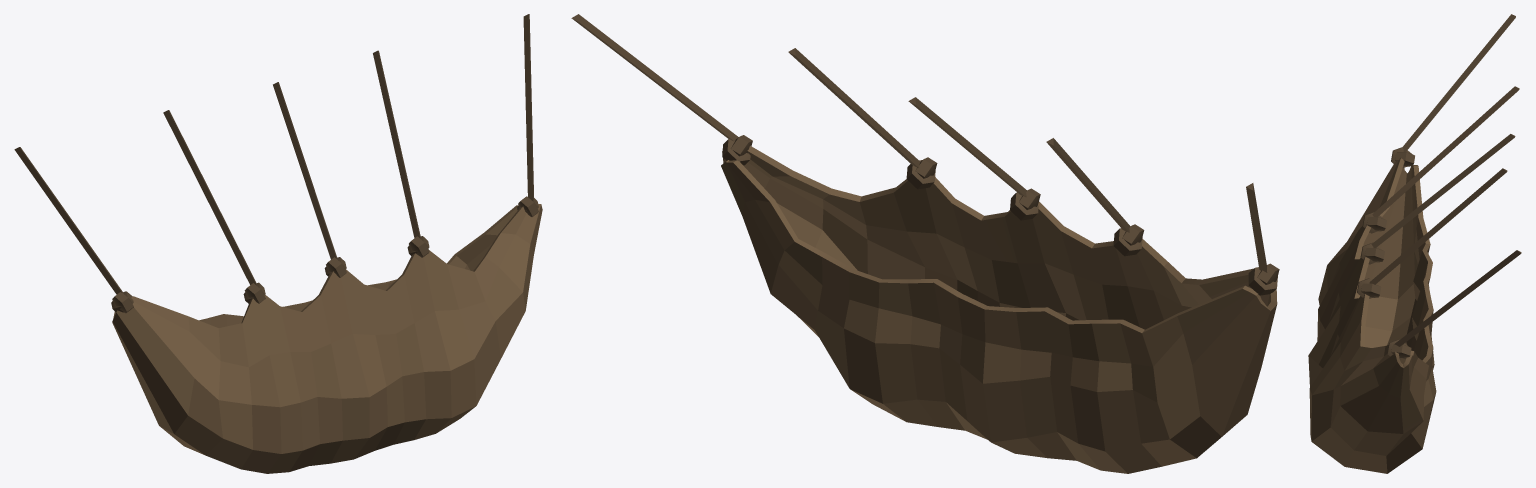
Rendered from SM_Veh_Extra_Cargo_01.glb.
3 renders of one model, left to right at view 1: azimuth 30°, elevation 25°; view 2: azimuth 150°, elevation 25°; view 3: azimuth 270°, elevation 25°, orthographic. The views are drawn at different scales.
Visible parts, largest first — view 1: SM_Veh_Extra_Cargo_01; view 2: SM_Veh_Extra_Cargo_01; view 3: SM_Veh_Extra_Cargo_01.
Part boxes in pixels (<box>): SM_Veh_Extra_Cargo_01: <box>14,14,542,473</box>; SM_Veh_Extra_Cargo_01: <box>571,14,1279,473</box>; SM_Veh_Extra_Cargo_01: <box>1308,14,1521,473</box>.
Bounding box in the file's own units: 0.0472 × 0.0286 × 0.0174.
